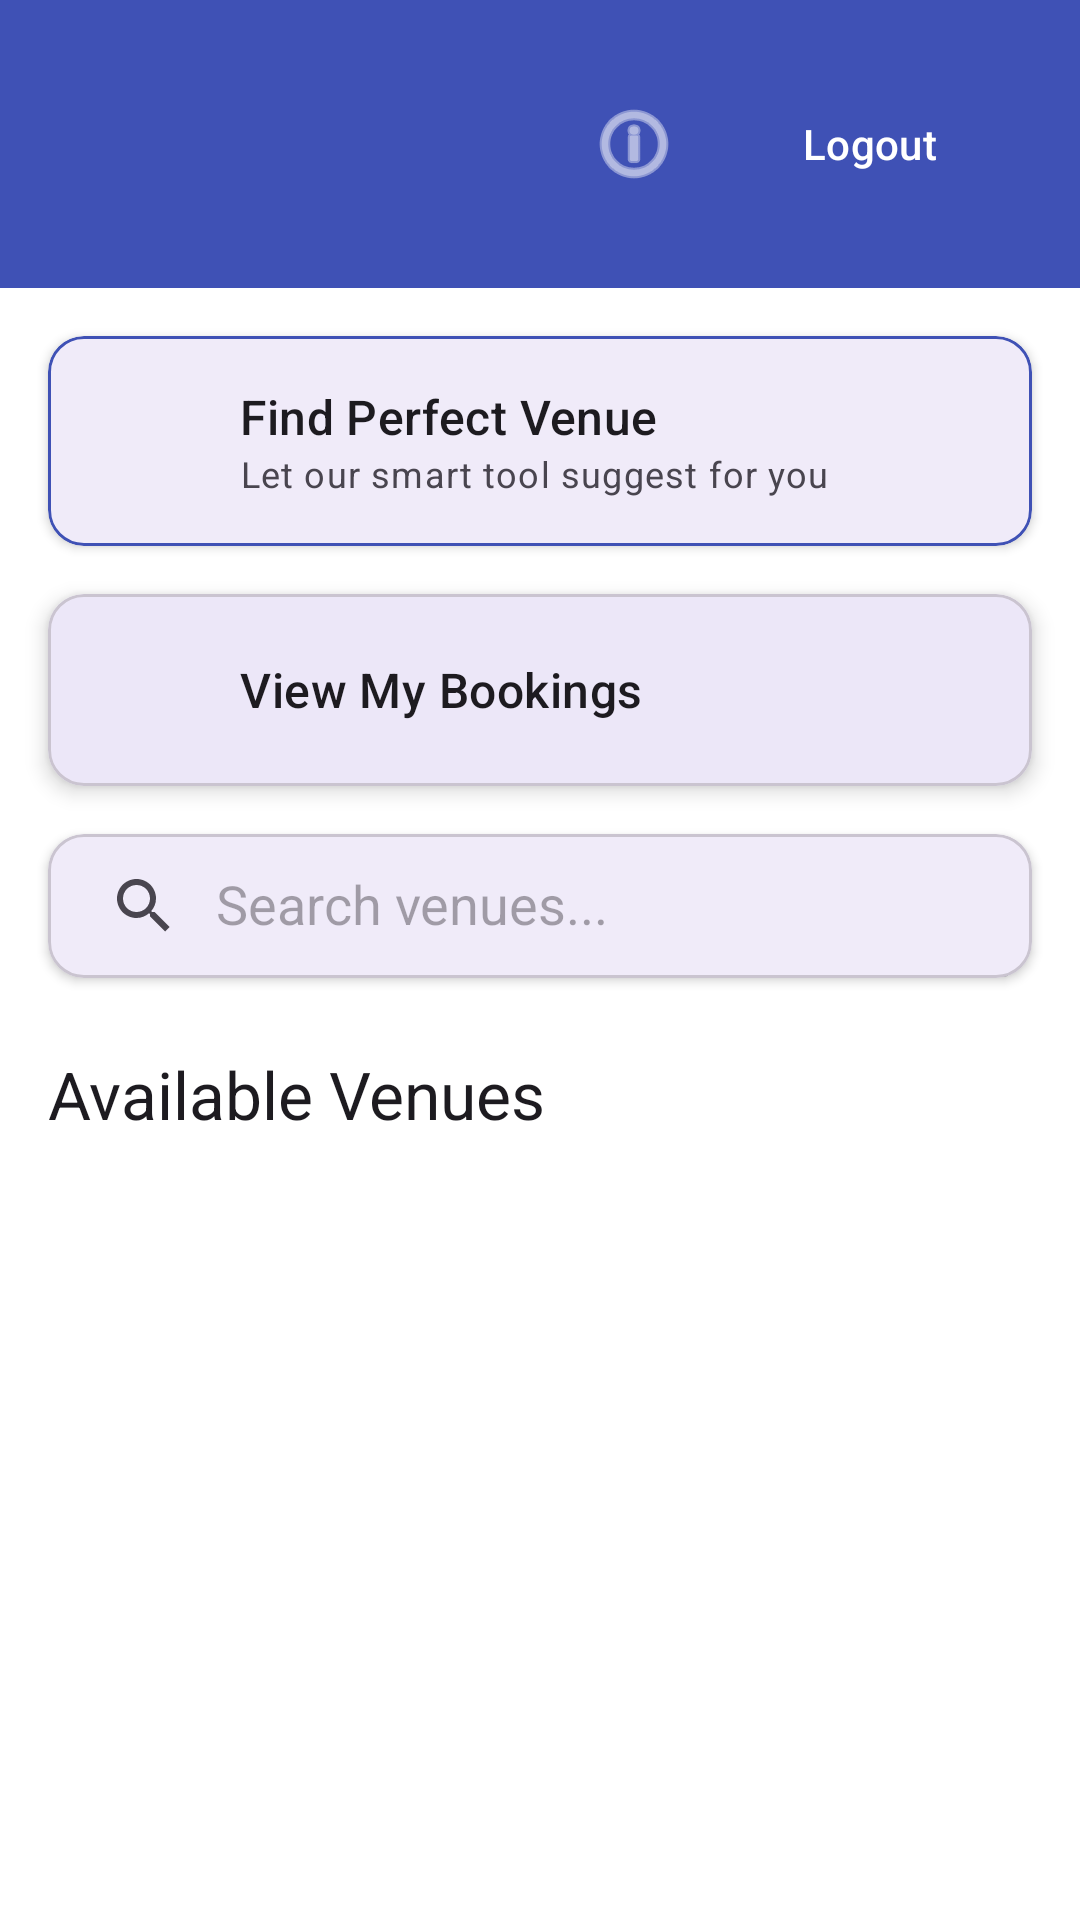

Icons on this 1080px×1920px Android screen, each with its box as region(x1, y1, x2, y2):
info details: region(599, 110, 669, 178)
